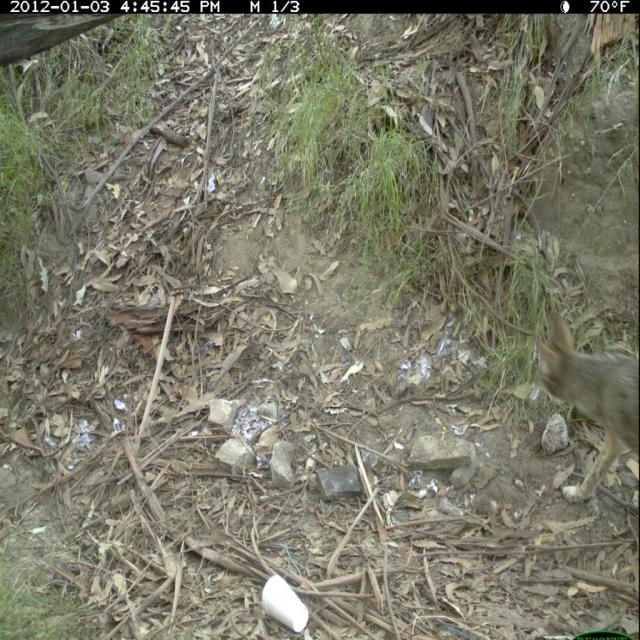coyote: (529, 305, 640, 522)
